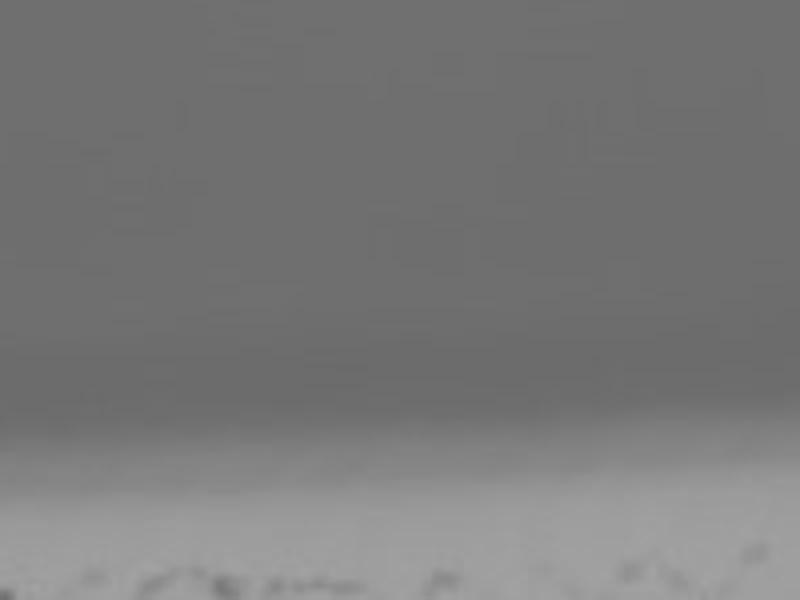defect: (129, 570, 166, 600), (739, 537, 775, 565), (656, 569, 687, 600), (212, 572, 244, 600), (615, 555, 643, 586), (77, 563, 113, 587), (330, 579, 363, 600), (260, 573, 284, 600), (429, 566, 458, 586), (306, 573, 329, 590), (54, 585, 78, 600), (415, 584, 436, 600), (192, 564, 211, 581), (290, 575, 303, 592), (3, 586, 16, 600)
